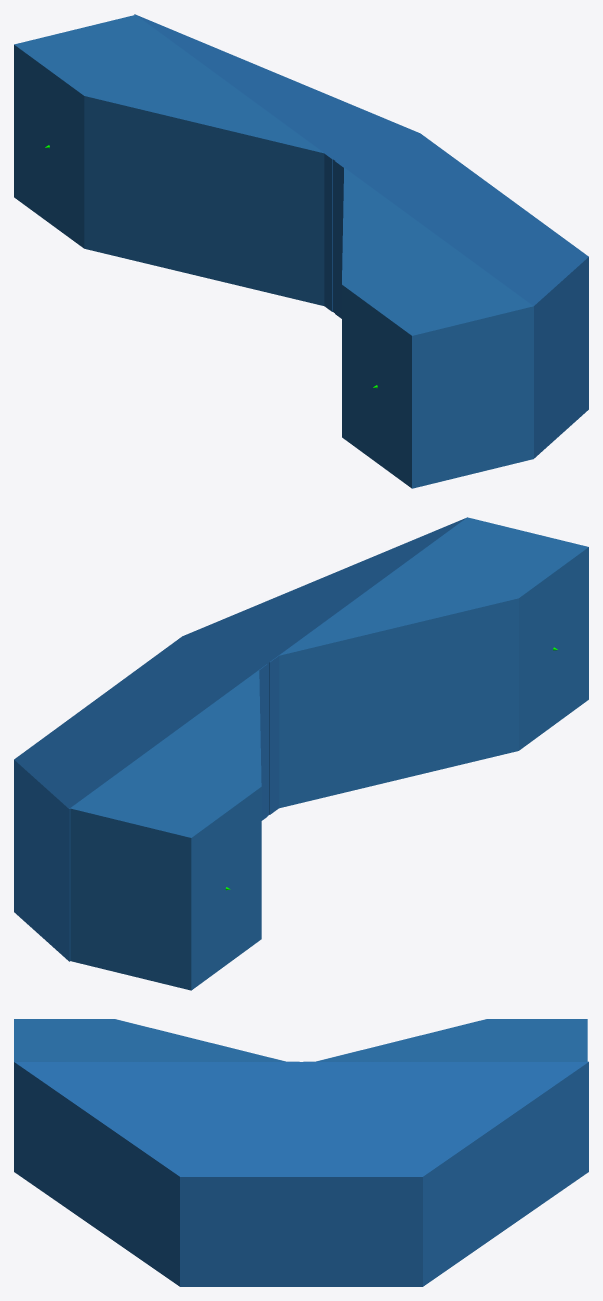
Rendered from Phase14 (2).fbx.
3 renders of one model, top to bottom at view 1: azimuth 30°, elevation 25°; view 2: azimuth 150°, elevation 25°; view 3: azimuth 270°, elevation 25°, orthographic. The views are drawn at different scales.
Parts seen in each view (by area): view 1: не стандартный переходник:Стандартное:587586, не стандартный переходник:Стандартное:535671, не стандартный переходник 2:Стандартное:538273; view 2: не стандартный переходник:Стандартное:535671, не стандартный переходник:Стандартное:587586, не стандартный переходник 2:Стандартное:538273; view 3: не стандартный переходник 2:Стандартное:538273, не стандартный переходник:Стандартное:587586, не стандартный переходник:Стандартное:535671.
Boxes of the visible parts, <box> form: не стандартный переходник:Стандартное:587586: <box>14,15,324,305</box>; не стандартный переходник:Стандартное:535671: <box>342,168,533,488</box>; не стандартный переходник 2:Стандартное:538273: <box>134,14,588,458</box>; не стандартный переходник:Стандартное:535671: <box>279,517,588,808</box>; не стандартный переходник:Стандартное:587586: <box>70,670,261,990</box>; не стандартный переходник 2:Стандартное:538273: <box>14,517,466,961</box>; не стандартный переходник 2:Стандартное:538273: <box>14,1061,588,1286</box>; не стандартный переходник:Стандартное:587586: <box>316,1019,587,1061</box>; не стандартный переходник:Стандартное:535671: <box>14,1019,286,1061</box>.
Size of the model in its own units: 2437 by 5678 by 1799.
